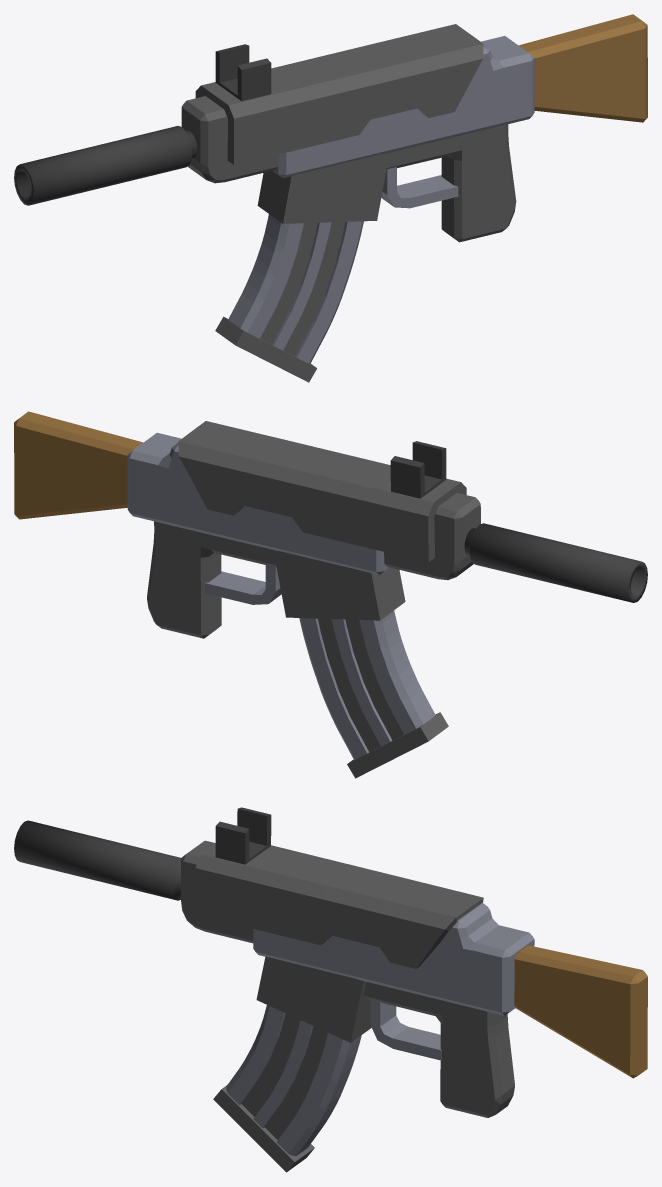
File: viewmodel.glb
3 renders of one model, top to bottom at view 1: azimuth 30°, elevation 25°; view 2: azimuth 150°, elevation 25°; view 3: azimuth 330°, elevation 25°, orthographic.
Visible parts, largest first — view 1: AK; view 2: AK; view 3: AK.
Part boxes in pixels (x1=…): AK: x1=14, y1=14, x2=647, y2=382; AK: x1=14, y1=411, x2=647, y2=778; AK: x1=14, y1=807, x2=647, y2=1172.
Size of the model in its own units: 1.42 by 0.7304 by 0.1537.
